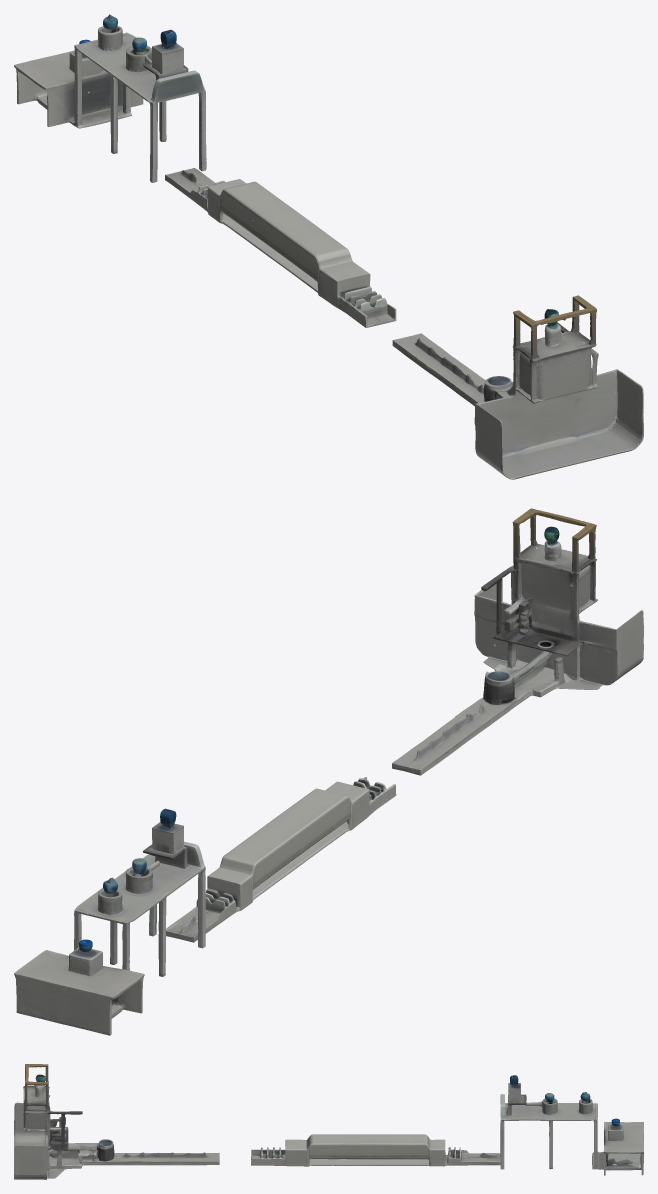
Rendered from sintering-line.glb.
The picture shows the model from 3 angles, top to bottom: view 1: azimuth 30°, elevation 25°; view 2: azimuth 150°, elevation 25°; view 3: azimuth 270°, elevation 25°; orthographic projection. The views are drawn at different scales.
Visible parts, largest first — view 1: tripo_node_d0076708-0611-4d44-a21a-c74cb1db5a9e; view 2: tripo_node_d0076708-0611-4d44-a21a-c74cb1db5a9e; view 3: tripo_node_d0076708-0611-4d44-a21a-c74cb1db5a9e.
Boxes of the visible parts, left/top/right/bottom form: tripo_node_d0076708-0611-4d44-a21a-c74cb1db5a9e: left=14, top=14, right=643, bottom=479; tripo_node_d0076708-0611-4d44-a21a-c74cb1db5a9e: left=14, top=508, right=643, bottom=1035; tripo_node_d0076708-0611-4d44-a21a-c74cb1db5a9e: left=14, top=1064, right=643, bottom=1179.
Bounding box in the file's own units: 0.1614 × 0.1546 × 1.
1 material, 1 textured.
